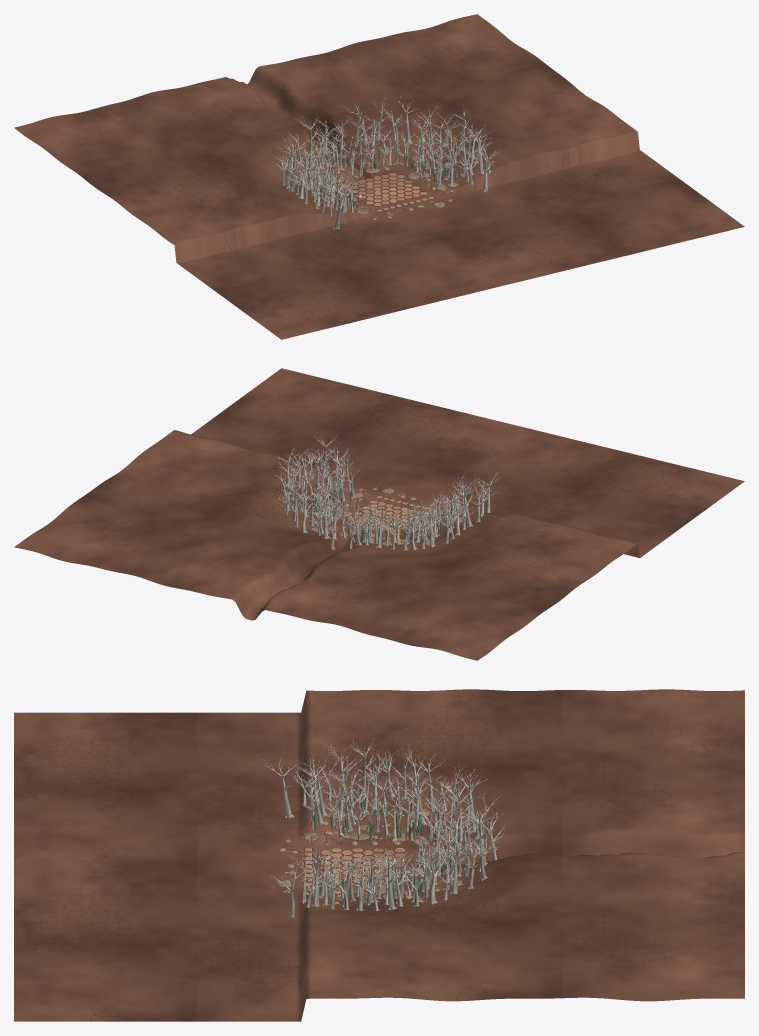
File: board_caatinga_realista.glb
3 views of the same model, one above another, from view 1: azimuth 30°, elevation 25°; view 2: azimuth 150°, elevation 25°; view 3: azimuth 270°, elevation 25° (orthographic). The views are drawn at different scales.
Parts seen in each view (by area): view 1: Terrain_Main; view 2: Terrain_Main; view 3: Terrain_Main.
Part boxes in pixels (x1,y1,x2,y2): Terrain_Main: (14, 14, 744, 339); Terrain_Main: (14, 368, 744, 660); Terrain_Main: (14, 689, 744, 1021).
Size of the model in its own units: 112 by 12.77 by 112.
Materials: 21 (2 with a texture image).
